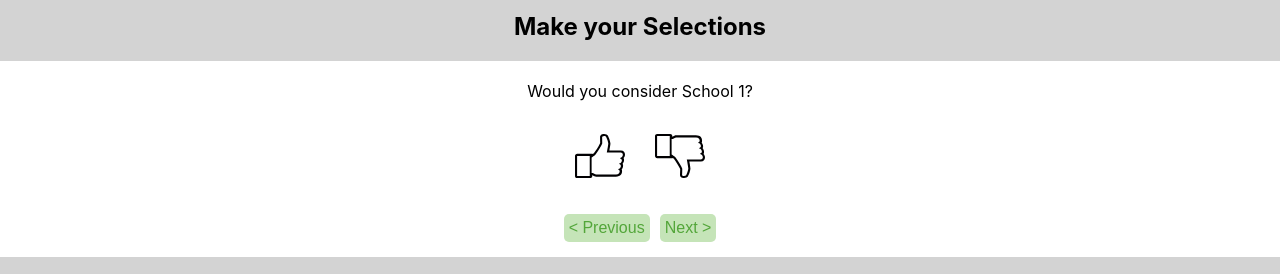
Test: <Rater /> › check to see if the 2nd school displays when next btn is pressed
Click the button "Next >": (688, 228) [660,214,716,242]
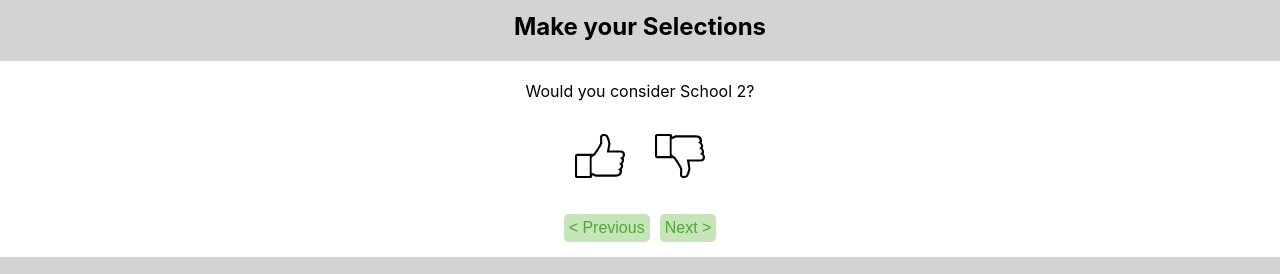
expect the text "Would you consider School 2?" is shown: met, box [526,81,754,101]
